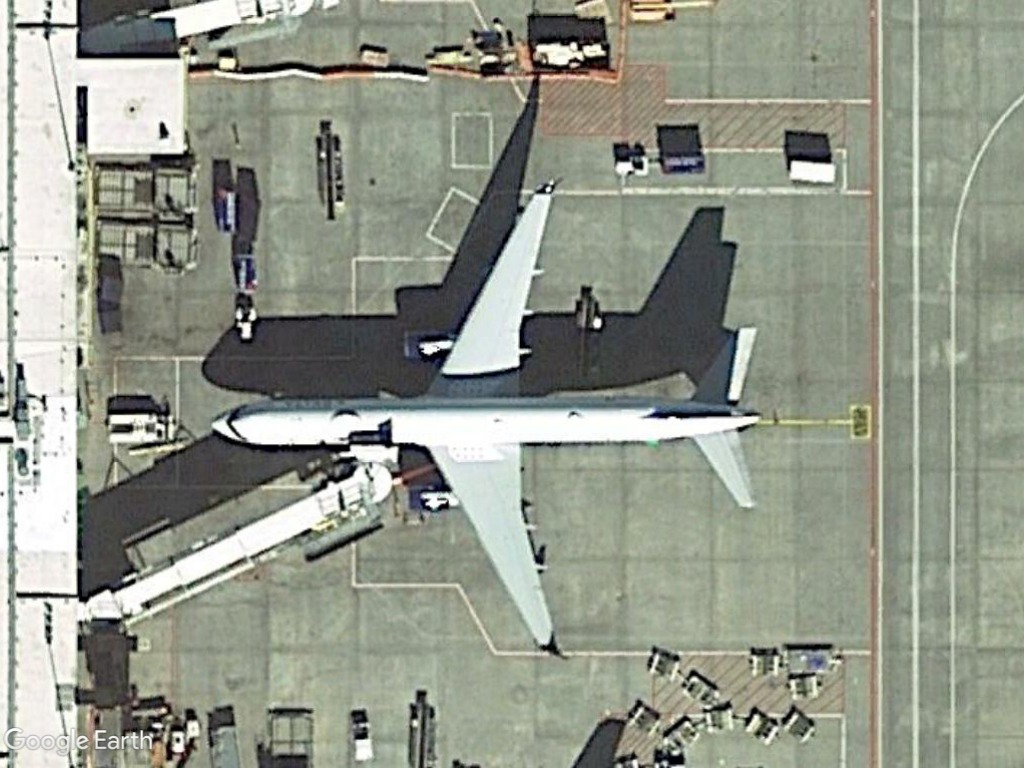airliner: (200, 186, 765, 661)
